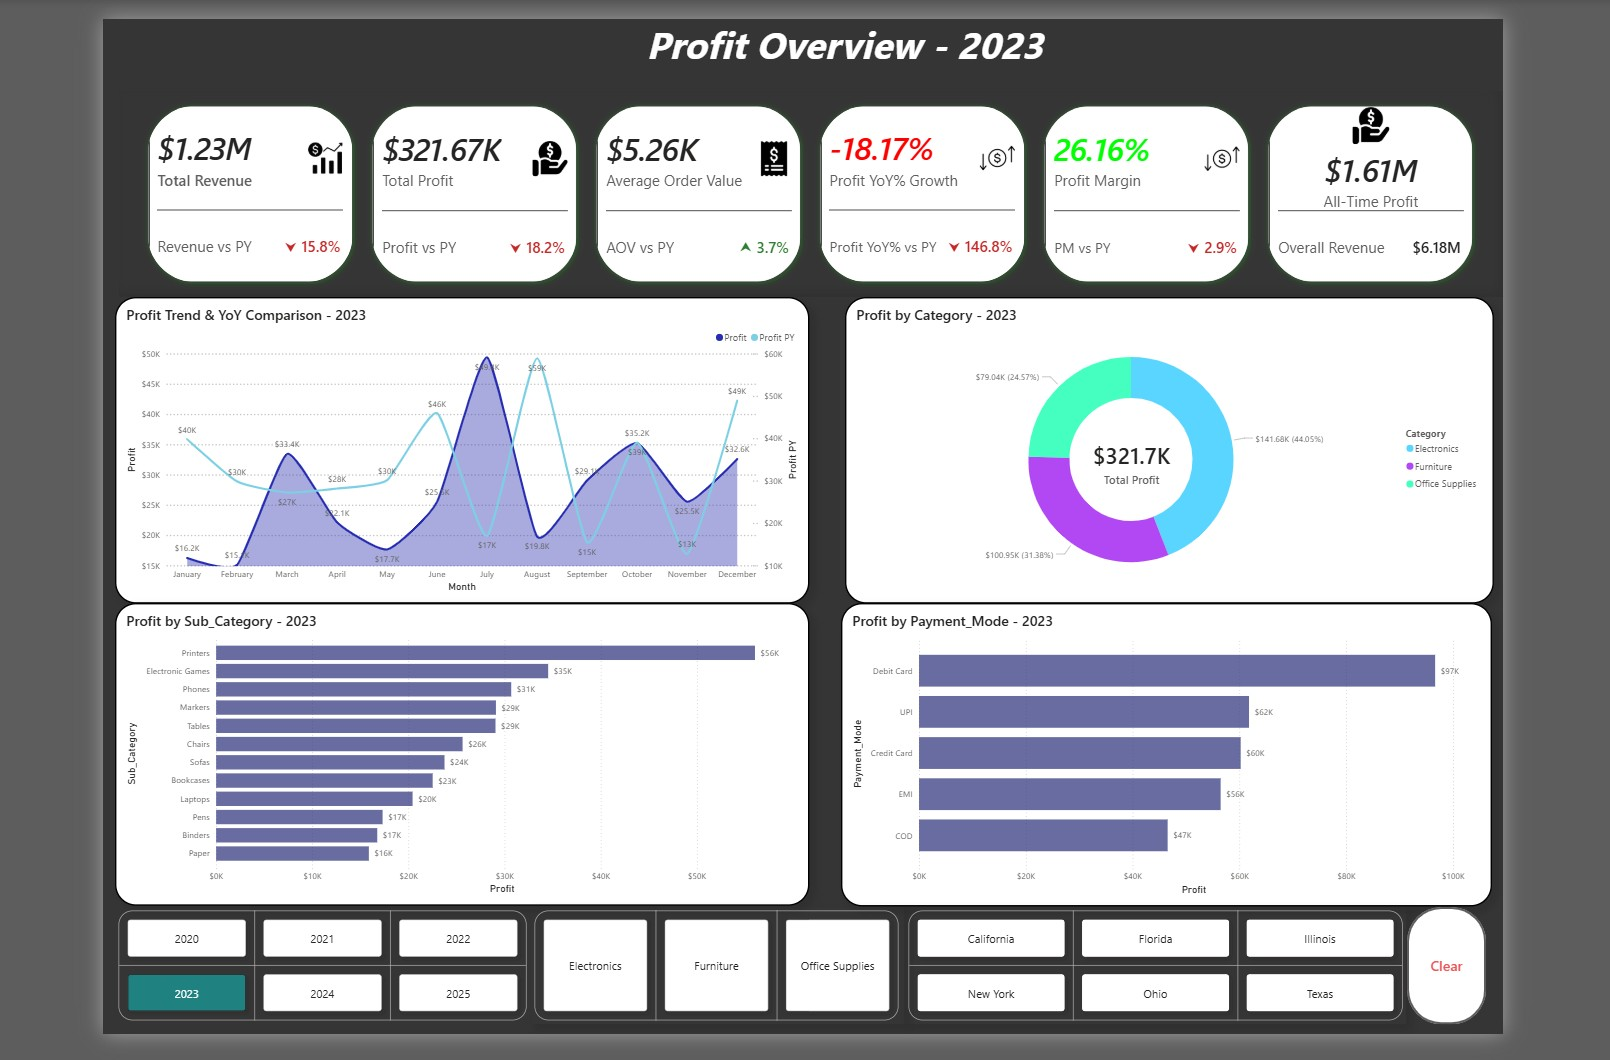

The dashboard page shown, as its layout file describes it:
{"tool":"powerbi","page":{"name":"Profit","canvas":[2000,1600],"ordinal":1},"visuals":[{"type":"cardVisual","fields":{"Data":["analytics Sales_Fact.Total Revenue","analytics Sales_Fact.Total Profit","analytics Sales_Fact.Average Order Value","analytics Sales_Fact.Profit YoY% Growth","analytics Sales_Fact.Profit Margin","measures (2).Total Profit All Years"]},"box":[21.6,102.7,1978.4,294.6],"z":0},{"type":"lineChart","fields":{"Category":["Date.Month"],"Y":["Sum(analytics Sales_Fact.Profit)"],"Y2":["analytics Sales_Fact.Profit PY"]},"box":[16.2,397.3,991.9,437.8],"z":1000},{"type":"barChart","fields":{"Category":["analytics Product_Dim.Sub_Category"],"Y":["analytics Sales_Fact.Total Profit"]},"box":[16.2,835.1,991.9,432.4],"z":2000},{"type":"donutChart","fields":{"Category":["analytics Product_Dim.Category"],"Y":["analytics Sales_Fact.Total Profit"]},"box":[1059.5,397.3,927,437.8],"z":3000},{"type":"barChart","fields":{"Category":["analytics Product_Dim.Payment_Mode"],"Y":["analytics Sales_Fact.Total Profit"]},"box":[1055.1,834.8,930.2,433.3],"z":4000},{"type":"advancedSlicerVisual","fields":{"Values":["Date.Year"]},"box":[16.2,1267.6,594.6,167.6],"z":5000},{"type":"advancedSlicerVisual","fields":{"Values":["analytics Product_Dim.Category"]},"box":[610.8,1267.6,532.4,167.6],"z":6000},{"type":"advancedSlicerVisual","fields":{"Values":["analytics Customer_Dim.State"]},"box":[1145.9,1267.6,716.2,167.6],"z":7000},{"type":"card","fields":{"Values":["analytics Sales_Fact.Total Profit"]},"box":[1389.2,578.4,162.2,113.5],"z":8000},{"type":"textbox","box":[581.1,0,959.5,102.7],"z":9000},{"type":"actionButton","box":[1862.2,1267.6,113,167.6],"z":10000}]}

Visuals, with their boxes on the page's 2000x1600 design canvas (x1, y1, x2, y2). These are canvas units, not pixel positions in the 1610x1060 screenshot, which may show the page scaled, cropped or inside an application window:
cardVisual - analytics Sales_Fact.Total Revenue x analytics Sales_Fact.Total Profit: 22:103:2000:397
lineChart - Date.Month x Sum(analytics Sales_Fact.Profit): 16:397:1008:835
barChart - analytics Product_Dim.Sub_Category x analytics Sales_Fact.Total Profit: 16:835:1008:1268
donutChart - analytics Product_Dim.Category x analytics Sales_Fact.Total Profit: 1060:397:1986:835
barChart - analytics Product_Dim.Payment_Mode x analytics Sales_Fact.Total Profit: 1055:835:1985:1268
advancedSlicerVisual - Date.Year: 16:1268:611:1435
advancedSlicerVisual - analytics Product_Dim.Category: 611:1268:1143:1435
advancedSlicerVisual - analytics Customer_Dim.State: 1146:1268:1862:1435
card - analytics Sales_Fact.Total Profit: 1389:578:1551:692
textbox: 581:0:1541:103
actionButton: 1862:1268:1975:1435
